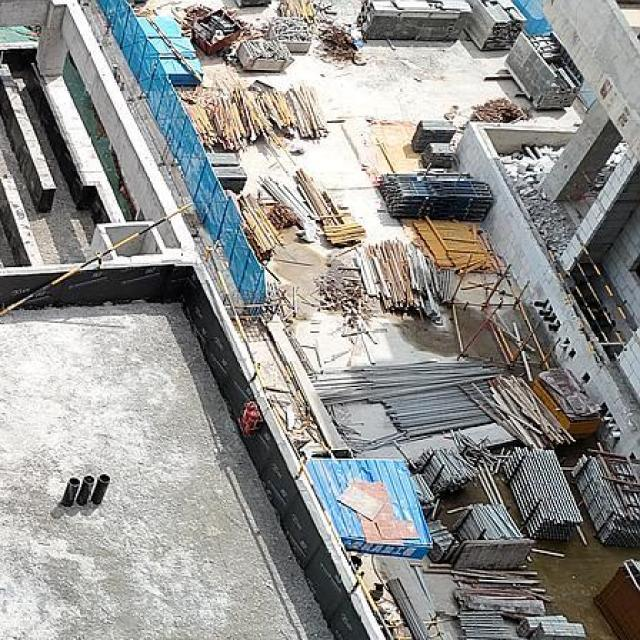edge_guardrail: (204, 244, 396, 640), (0, 202, 194, 316), (564, 234, 640, 363), (546, 249, 606, 370), (564, 170, 600, 220), (224, 302, 282, 319)
